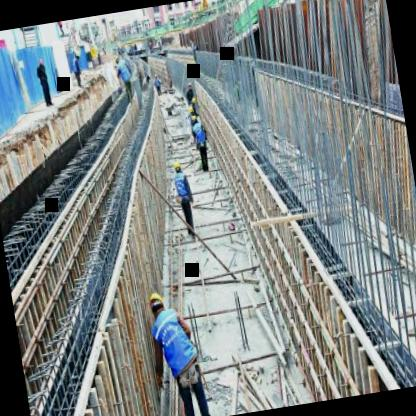helmet: (143, 288, 168, 321), (172, 158, 182, 172)
